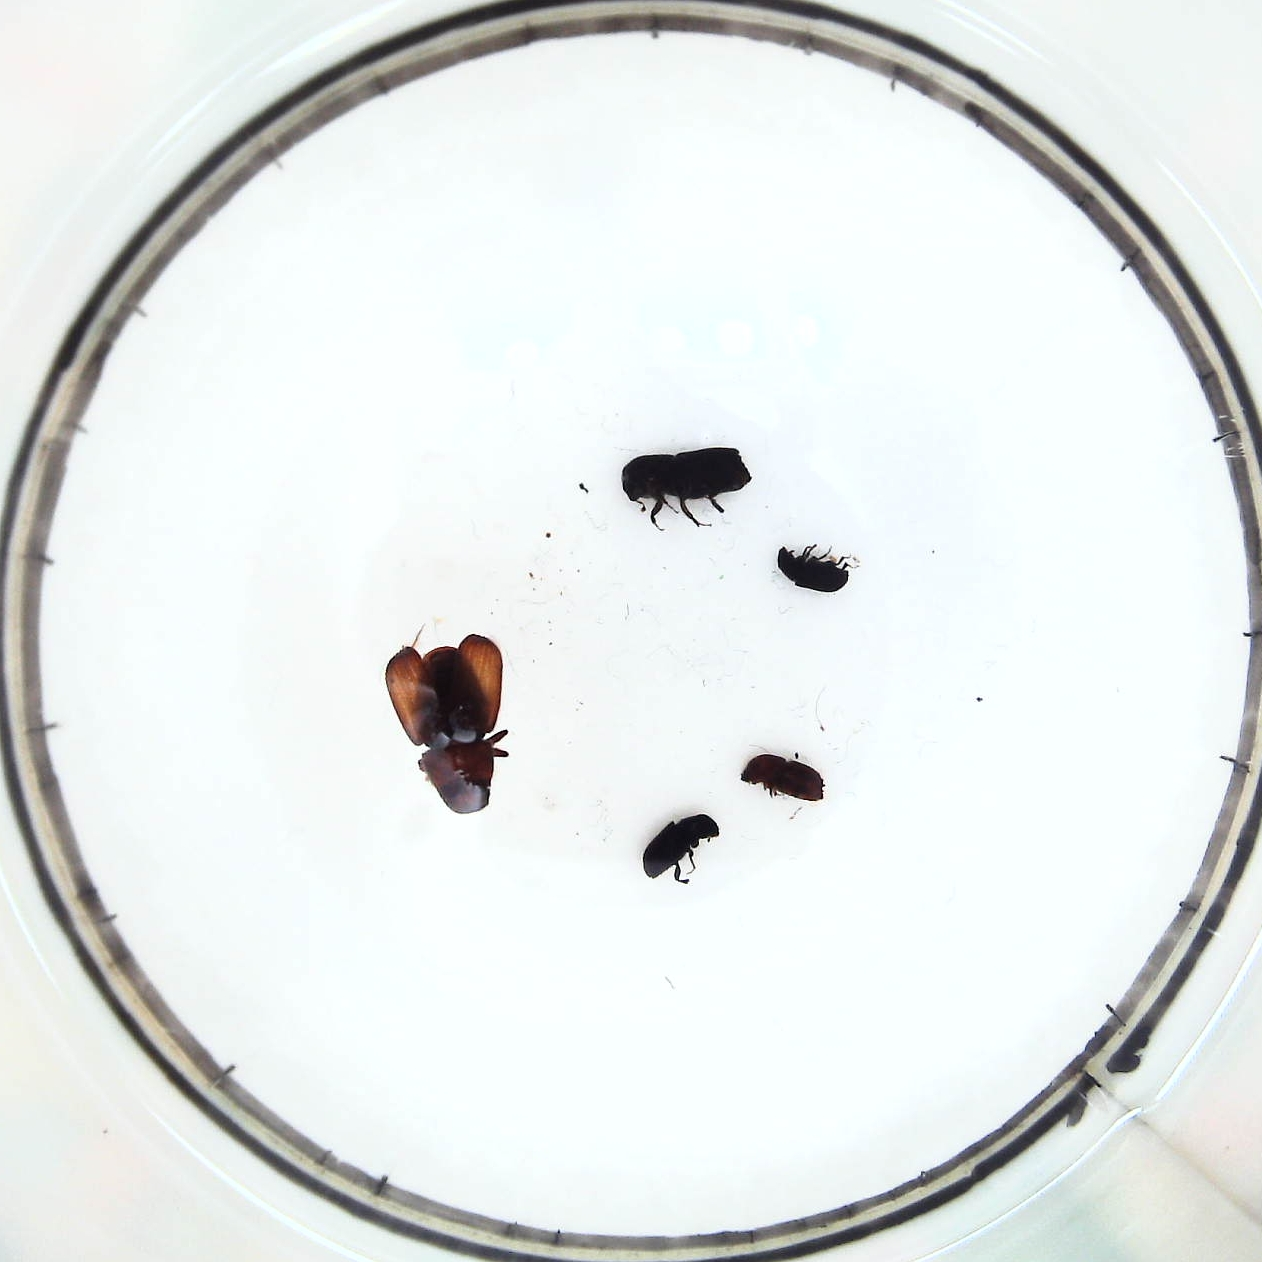Boerner: (623, 450, 754, 507)
Leconte: (388, 633, 500, 822)
Linnaeus: (741, 749, 829, 812)
armandi: (641, 809, 717, 885)
coleoptera: (775, 542, 849, 592)
